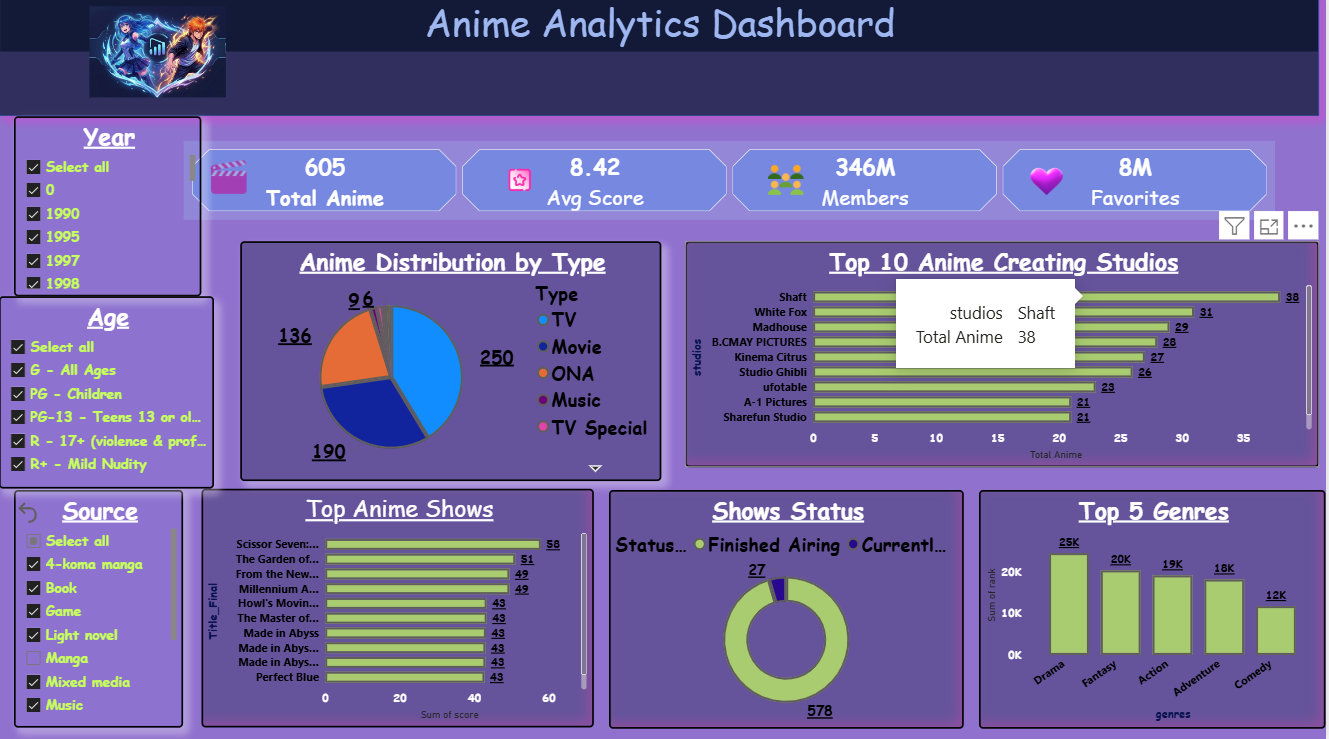

Layout of this report page (visuals, bound fields, positions):
{"tool":"powerbi","page":{"name":"Page 1","canvas":[1920,1080],"ordinal":0},"visuals":[{"type":"textbox","title":"Anime Analytics Dashboard","box":[0,0,1911,175.5],"z":0},{"type":"cardVisual","title":"Total Anime","fields":{"Data":["Anime.Total Anime","Anime.Avg Score","Sum(Anime.members)","Sum(Anime.favorites)"]},"box":[242.5,206.3,1630.5,124.9],"z":1000},{"type":"pieChart","title":"Anime Distribution by Type","fields":{"Category":["Anime.type"],"Y":["Anime.Total Anime"]},"box":[349.3,356.5,609.9,347.5],"z":2000},{"type":"columnChart","title":"Top 5 Genres","fields":{"Category":["Anime.genres"],"Y":["Sum(Anime.rank)"]},"box":[1418.8,716.6,501.3,345.6],"z":3000},{"type":"barChart","title":"Top Anime Shows","fields":{"Category":["Anime.Title_Final "],"Y":["Sum(Anime.score)"]},"box":[293.2,714.8,568.2,345.6],"z":4000},{"type":"donutChart","title":"Shows Status","fields":{"Category":["Anime.status"],"Y":["Anime.Total Anime"]},"box":[883.1,716.6,513.9,345.6],"z":5000},{"type":"slicer","title":"Source","fields":{"Values":["Anime.source"]},"box":[21.6,716.3,244.5,344.1],"z":6000},{"type":"slicer","title":"Year","fields":{"Values":["Anime.year"]},"box":[21.7,175.5,271.4,260.6],"z":7000},{"type":"clusteredBarChart","title":"Top 10 Anime Creating Studios","fields":{"Category":["Anime.studios"],"Y":["Anime.Total Anime"]},"box":[993.5,356.5,917.5,327.5],"z":8000},{"type":"actionButton","box":[21.7,729.3,85.1,39.8],"z":9000},{"type":"slicer","title":"Age","fields":{"Values":["Anime.rating"]},"box":[0,436.1,311.3,278.7],"z":10000},{"type":"image","box":[720.2,246.1,67,43.4],"z":11000},{"type":"image","box":[1093,235.3,92.3,65.1],"z":12000},{"type":"image","box":[1478.5,242.5,76,54.3],"z":13000},{"type":"image","box":[86.9,16.3,285.9,132.1],"z":14000},{"type":"image","box":[293.2,235.3,79.6,61.5],"z":15000}]}

Visuals, with their boxes in screenshot pixels (x1, y1, x2, y2), scaled from the page's 1920x1080 canvas onto the 1329x739 screenshot:
"Anime Analytics Dashboard" textbox: {"x1": 0, "y1": 0, "x2": 1323, "y2": 120}
"Total Anime" cardVisual: {"x1": 168, "y1": 141, "x2": 1296, "y2": 227}
"Anime Distribution by Type" pieChart: {"x1": 242, "y1": 244, "x2": 664, "y2": 482}
"Top 5 Genres" columnChart: {"x1": 982, "y1": 490, "x2": 1328, "y2": 727}
"Top Anime Shows" barChart: {"x1": 203, "y1": 489, "x2": 596, "y2": 726}
"Shows Status" donutChart: {"x1": 611, "y1": 490, "x2": 967, "y2": 727}
"Source" slicer: {"x1": 15, "y1": 490, "x2": 184, "y2": 726}
"Year" slicer: {"x1": 15, "y1": 120, "x2": 203, "y2": 298}
"Top 10 Anime Creating Studios" clusteredBarChart: {"x1": 688, "y1": 244, "x2": 1323, "y2": 468}
actionButton: {"x1": 15, "y1": 499, "x2": 74, "y2": 526}
"Age" slicer: {"x1": 0, "y1": 298, "x2": 215, "y2": 489}
image: {"x1": 499, "y1": 168, "x2": 545, "y2": 198}
image: {"x1": 757, "y1": 161, "x2": 820, "y2": 206}
image: {"x1": 1023, "y1": 166, "x2": 1076, "y2": 203}
image: {"x1": 60, "y1": 11, "x2": 258, "y2": 102}
image: {"x1": 203, "y1": 161, "x2": 258, "y2": 203}
